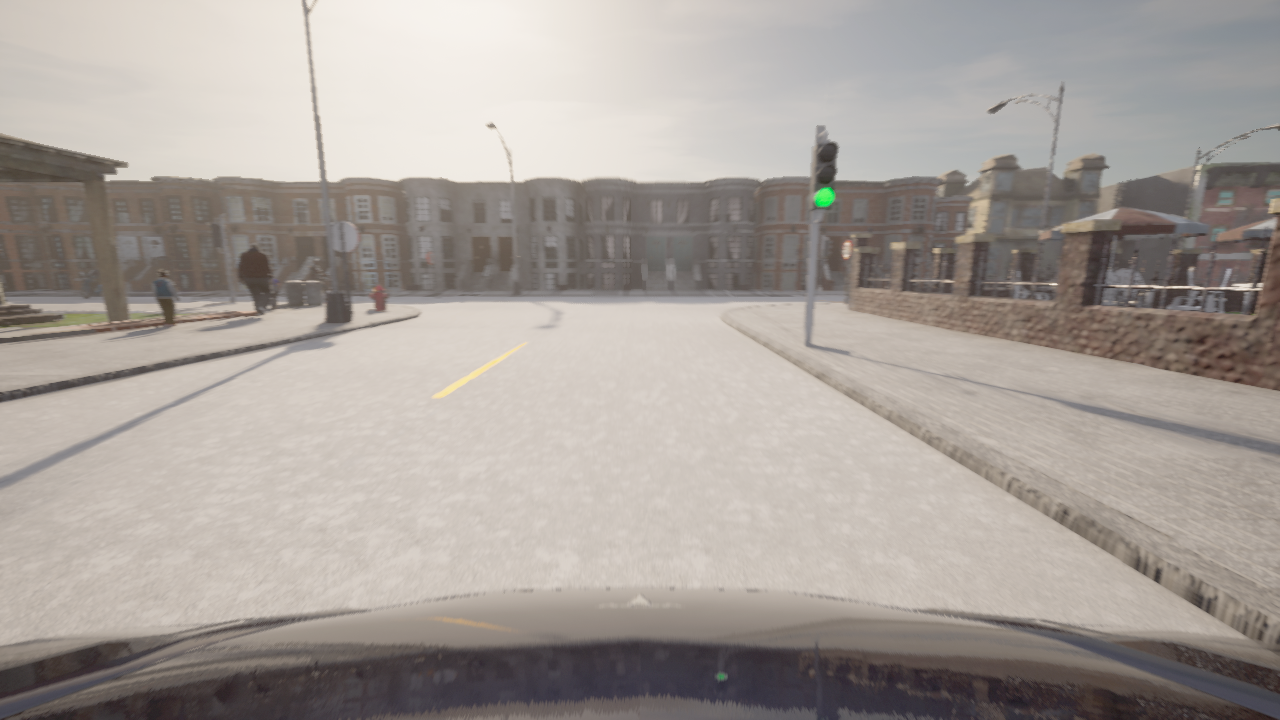cyclist: (0, 588, 1279, 719), (304, 275, 345, 301), (81, 272, 102, 297)
pedestrian: (238, 243, 273, 315), (152, 270, 178, 326), (269, 278, 280, 309)
